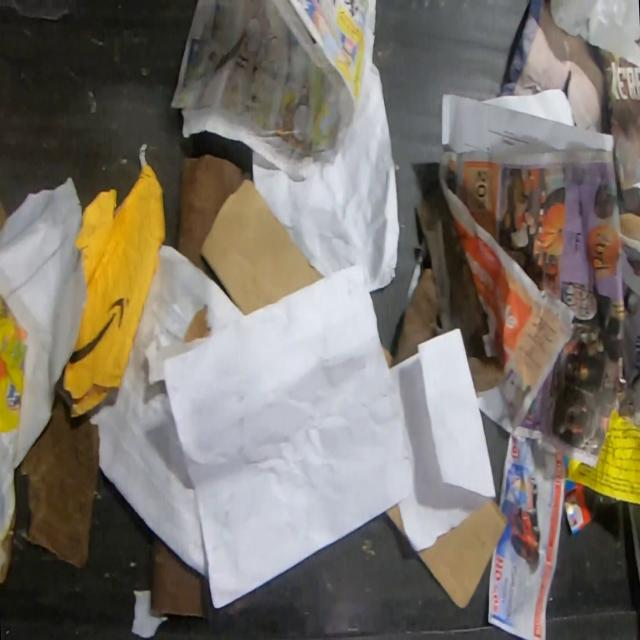cardboard: (56, 159, 166, 416), (413, 182, 505, 395), (198, 176, 324, 314), (499, 0, 610, 135), (18, 392, 100, 570), (414, 498, 510, 610), (176, 151, 251, 287), (382, 266, 448, 368), (149, 529, 208, 623), (564, 480, 622, 537), (183, 304, 211, 342), (384, 502, 405, 541), (619, 210, 640, 243), (0, 196, 6, 234)
soft_plastic: (548, 0, 640, 67)
